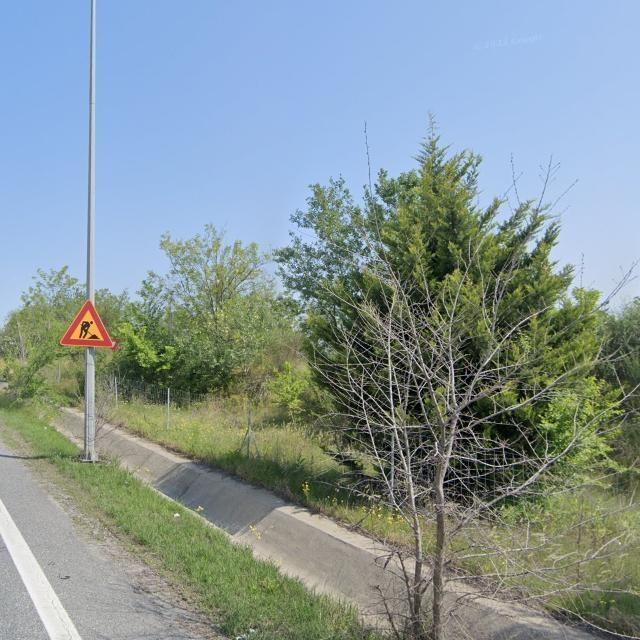prio_give_way: (110, 338, 120, 352)
